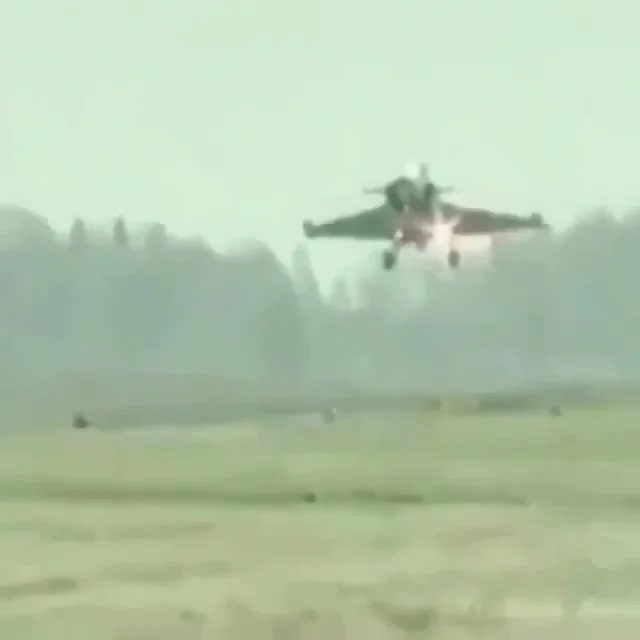JAS39: (301, 159, 552, 272)
